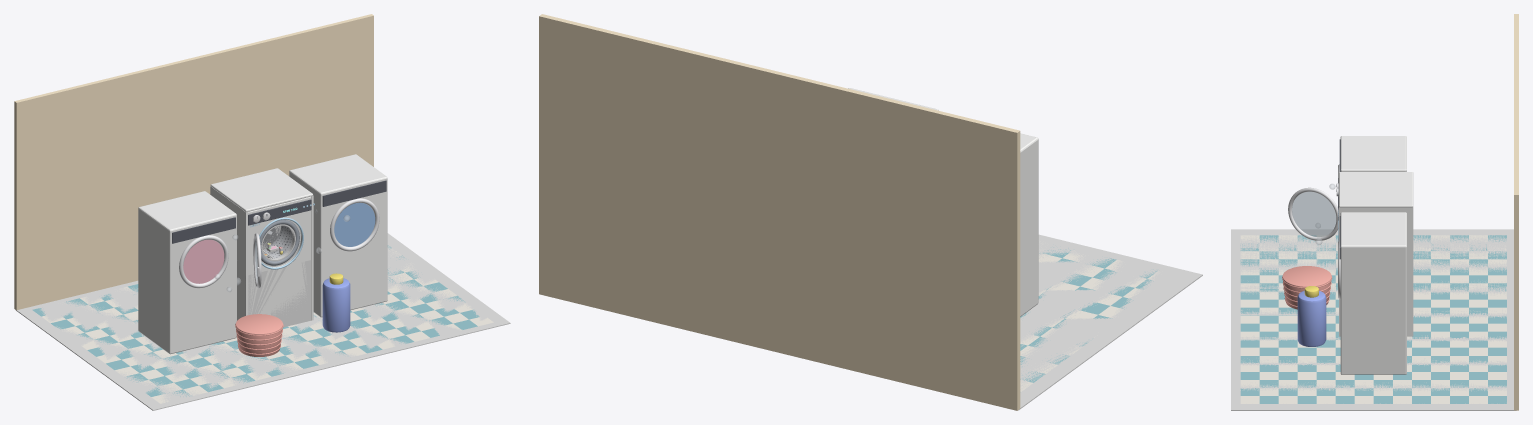
The model's file is wash.glb.
3 views of the same model, side by side, from view 1: azimuth 30°, elevation 25°; view 2: azimuth 150°, elevation 25°; view 3: azimuth 270°, elevation 25° (orthographic). The views are drawn at different scales.
Visible parts, largest first — view 1: back_wall, col_box_floor, floor, mach2_body, mach2_body.001, front_panel, machine_top, col_box_panel_low, basket, machine_side, bottle, mach2_glass (+8 smaller); view 2: back_wall, col_box_floor, floor, mach2_body; view 3: floor, col_box_floor, mach2_body.001, machine_top, mach2_body, back_wall, door_glass, bottle, machine_side.001, basket, door_ring.
Part boxes in pixels (box(x1,y1,x2,y2)): back_wall: box(14, 14, 373, 310); col_box_floor: box(16, 233, 510, 410); floor: box(32, 245, 493, 403); mach2_body: box(138, 191, 236, 354); mach2_body.001: box(289, 154, 387, 317); front_panel: box(248, 196, 310, 316); machine_top: box(210, 168, 313, 212); col_box_panel_low: box(245, 260, 310, 327); basket: box(235, 314, 282, 356); machine_side: box(210, 186, 248, 320); bottle: box(322, 278, 350, 332); mach2_glass: box(183, 239, 224, 283); back_wall: box(539, 14, 1020, 410); col_box_floor: box(1018, 234, 1202, 410); floor: box(1020, 241, 1159, 391); mach2_body: box(1020, 133, 1038, 316); floor: box(1240, 235, 1506, 403); col_box_floor: box(1231, 229, 1516, 410); mach2_body.001: box(1340, 212, 1406, 374); machine_top: box(1339, 172, 1413, 207); mach2_body: box(1340, 136, 1406, 171); back_wall: box(1514, 14, 1518, 410); door_glass: box(1292, 191, 1336, 236); bottle: box(1297, 291, 1326, 346); machine_side.001: box(1339, 207, 1413, 336); basket: box(1282, 266, 1331, 309); door_ring: box(1288, 187, 1338, 240).
Size of the model in its own units: 90 by 50.1 by 60.5.
